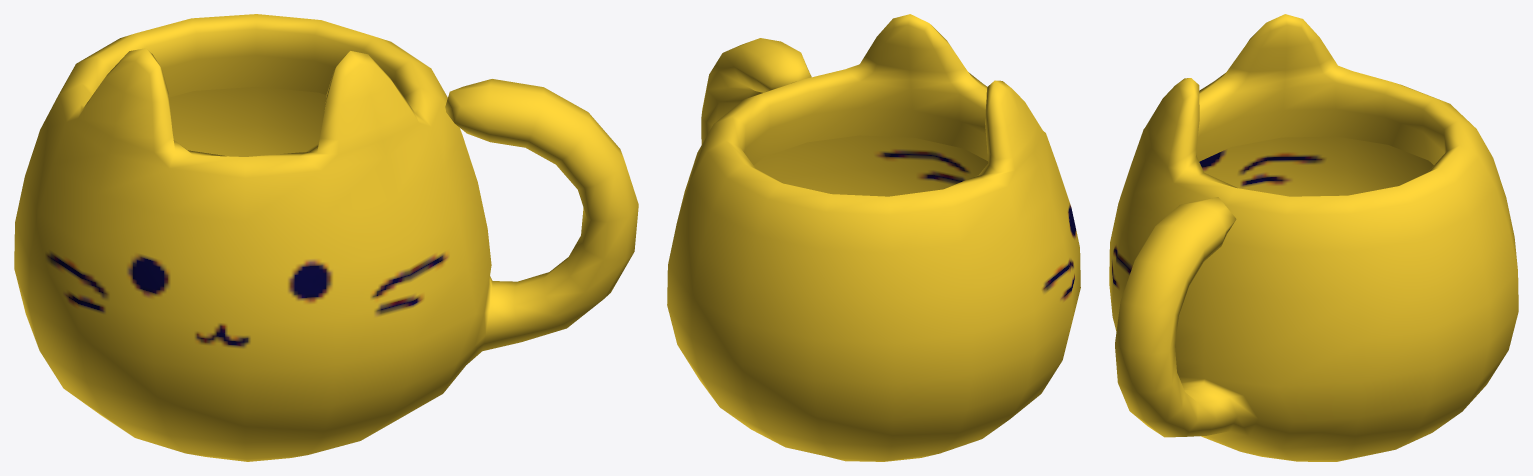
The model's file is Mug.fbx.
3 views of the same model, side by side, from view 1: azimuth 30°, elevation 25°; view 2: azimuth 150°, elevation 25°; view 3: azimuth 270°, elevation 25° (orthographic). The views are drawn at different scales.
Visible parts, largest first — view 1: Mug; view 2: Mug; view 3: Mug.
Part boxes in pixels (x1=…): Mug: x1=14, y1=14, x2=638, y2=461; Mug: x1=667, y1=14, x2=1080, y2=461; Mug: x1=1109, y1=14, x2=1518, y2=461.
Size of the model in its own units: 4.71 by 3.78 by 3.89.
